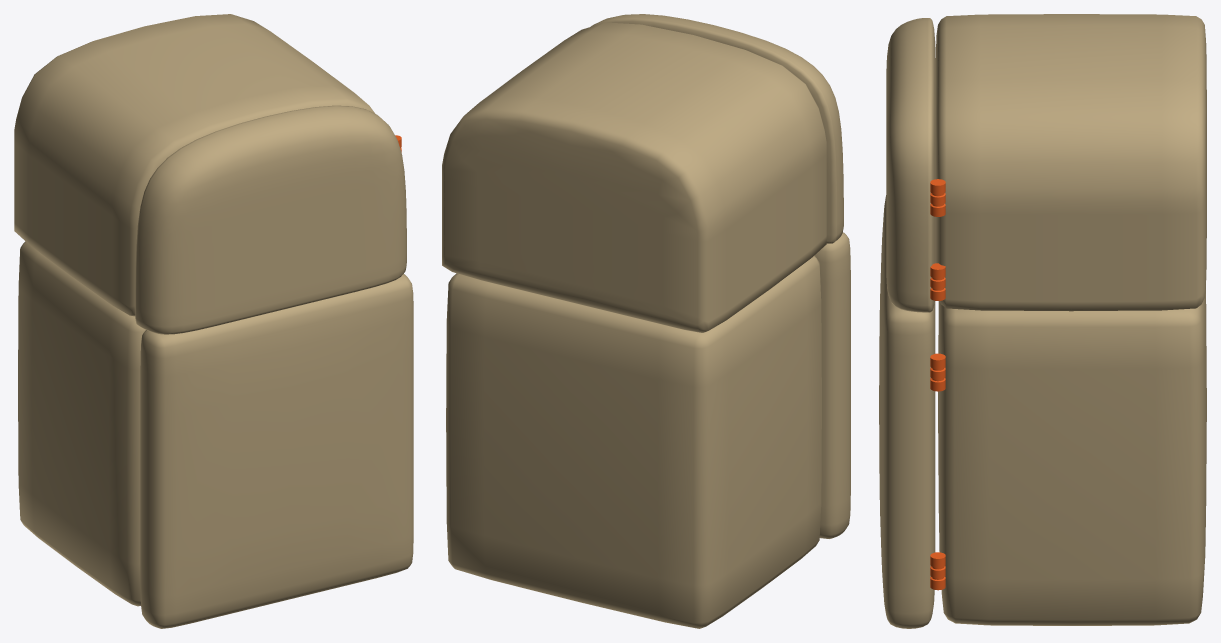
File: refri.fbx
3 renders of one model, left to right at view 1: azimuth 30°, elevation 25°; view 2: azimuth 150°, elevation 25°; view 3: azimuth 270°, elevation 25°, orthographic. The views are drawn at different scales.
Visible parts, largest first — view 1: Box053, Box052, Box009, Box008; view 2: Box008, Box009, Box053, Box052; view 3: Box008, Box009, Box053, Box052, Cylinder047, Cylinder048, Cylinder045, Cylinder046.
Part boxes in pixels (x1,y1,x2,y2): Box053: [140, 274, 413, 628]; Box052: [135, 105, 406, 334]; Box009: [14, 14, 374, 316]; Box008: [18, 241, 145, 606]; Box008: [446, 255, 821, 628]; Box009: [442, 22, 826, 332]; Box053: [814, 232, 850, 538]; Box052: [590, 14, 843, 243]; Box008: [938, 285, 1206, 625]; Box009: [936, 14, 1206, 311]; Box053: [879, 195, 935, 628]; Box052: [886, 18, 935, 312]; Cylinder047: [930, 353, 945, 391]; Cylinder048: [930, 552, 945, 590]; Cylinder045: [930, 179, 945, 216]; Cylinder046: [930, 263, 945, 300].
Bounding box in the file's own units: 109 × 185 × 107.
